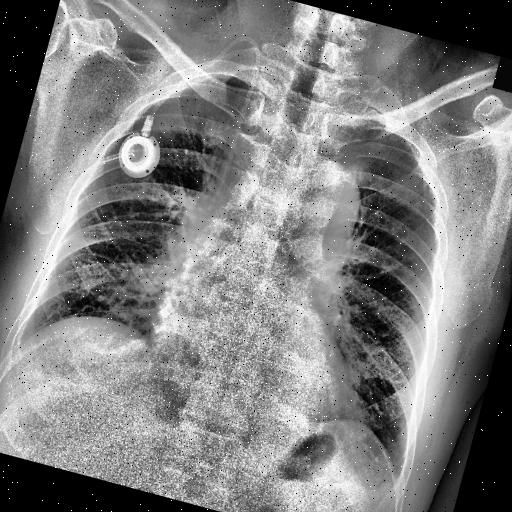0- Aortic enlargement: (272, 153, 366, 285), (267, 151, 369, 267), (274, 146, 372, 258)
3- Cardiomegaly: (136, 270, 375, 428), (136, 297, 362, 425), (139, 294, 362, 416)
